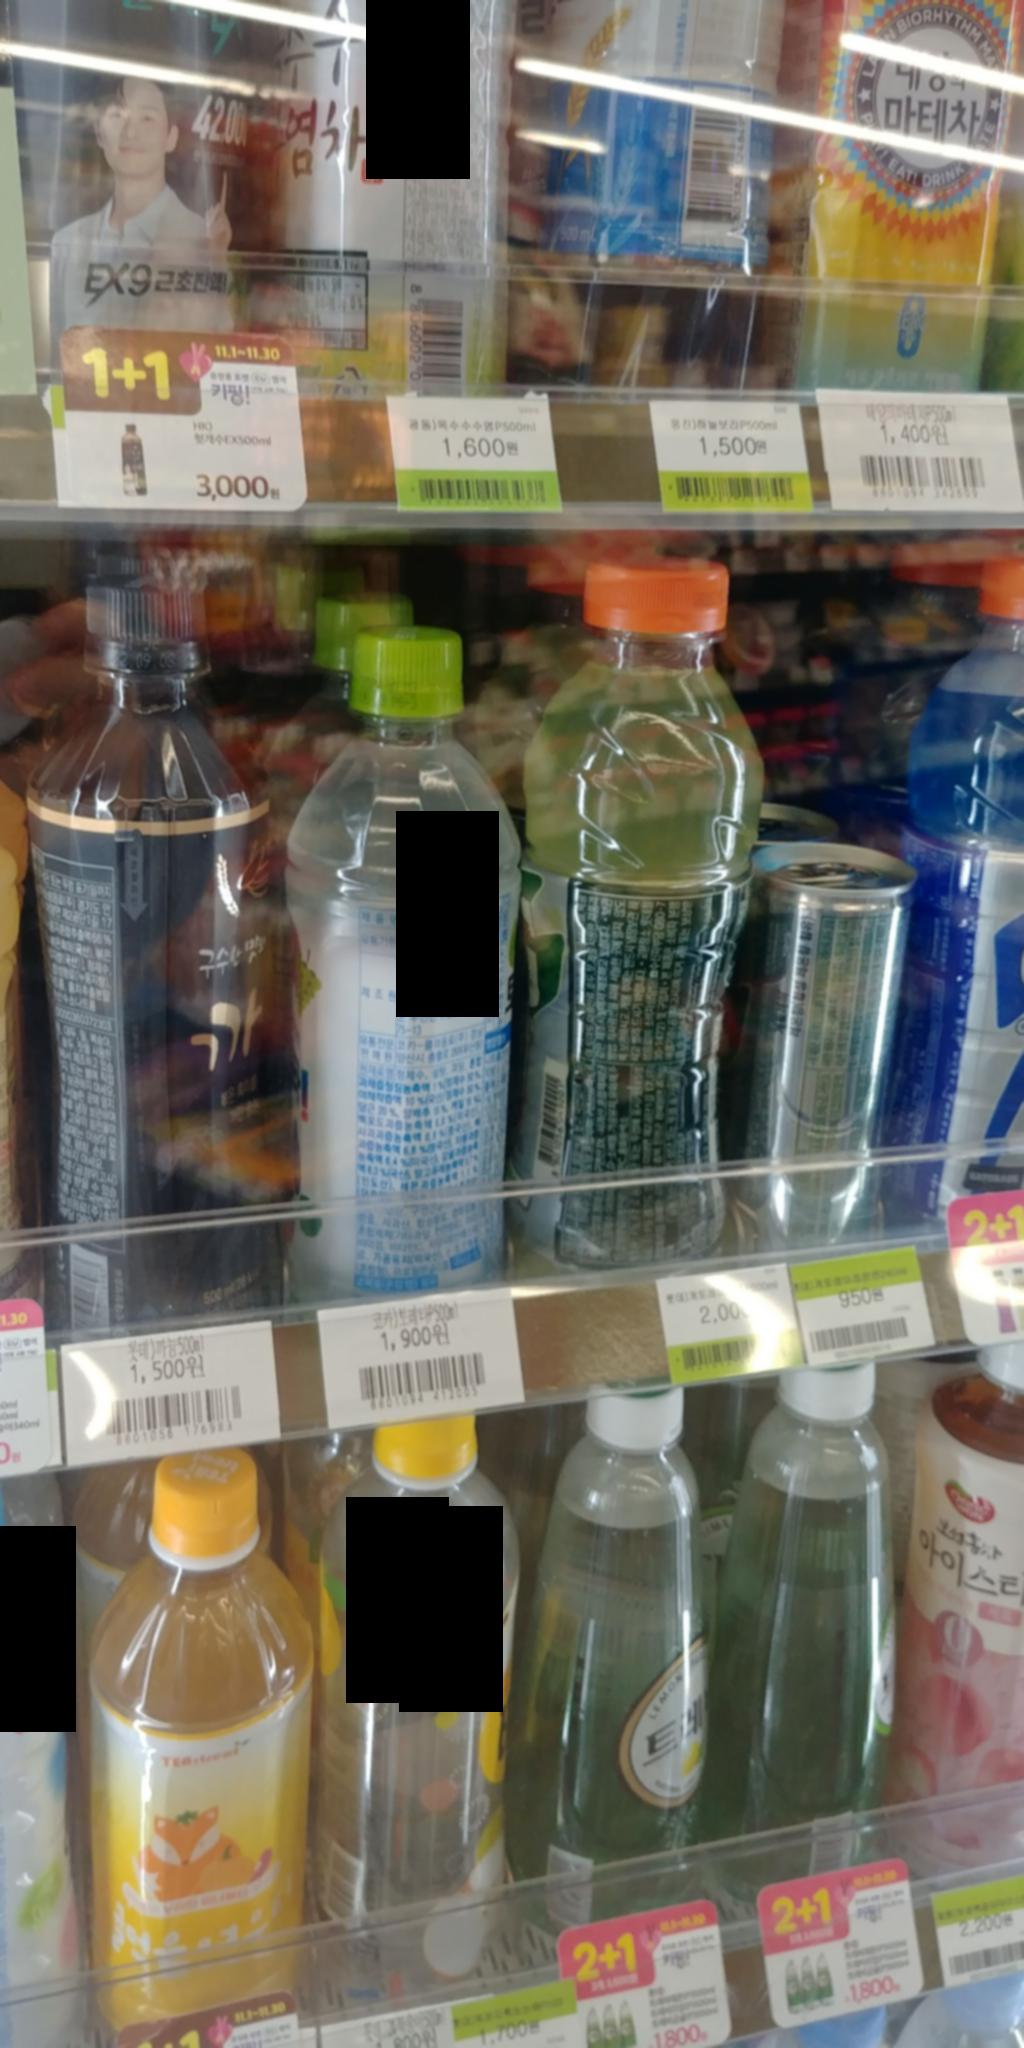gatorade_lemon: (500, 551, 750, 1275)
toreta: (289, 618, 519, 1297)
